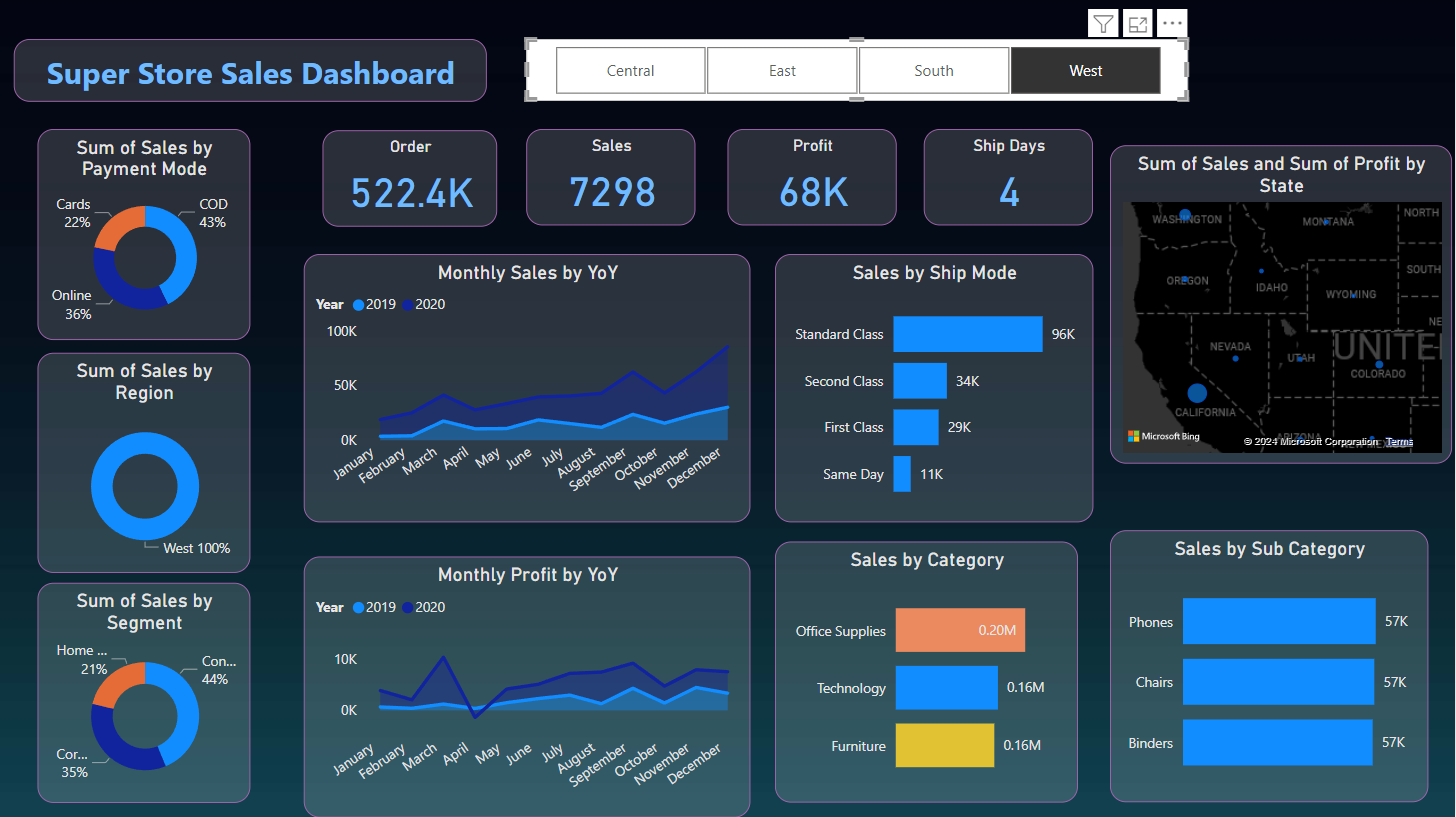

Layout of this report page (visuals, bound fields, positions):
{"tool":"powerbi","page":{"name":"Page 1","canvas":[1280,720],"ordinal":0},"visuals":[{"type":"clusteredBarChart","title":" Sales by Category","fields":{"Category":["SuperStore_Sales_Dataset.Category"],"Y":["Sum(SuperStore_Sales_Dataset.Sales)"]},"box":[681.9,477.2,266.6,229.7],"z":0},{"type":"clusteredBarChart","title":" Sales by Sub Category","fields":{"Category":["SuperStore_Sales_Dataset.Sub-Category"],"Y":["Sum(SuperStore_Sales_Dataset.Sales)"]},"box":[975.9,467.7,279.7,239.2],"z":1000},{"type":"clusteredBarChart","title":" Sales by Ship Mode","fields":{"Category":["SuperStore_Sales_Dataset.Ship Mode"],"Y":["Sum(SuperStore_Sales_Dataset.Sales)"]},"box":[681.9,223.7,279.7,235.6],"z":2000},{"type":"stackedAreaChart","title":" Monthly Sales by YoY ","fields":{"Y":["Sum(SuperStore_Sales_Dataset.Sales)"],"Category":["SuperStore_Sales_Dataset.Order Date.Variation.Date Hierarchy.Month","SuperStore_Sales_Dataset.Order Date.Variation.Date Hierarchy.Day"],"Series":["SuperStore_Sales_Dataset.Order Date.Variation.Date Hierarchy.Year"]},"box":[266.6,223.7,392.7,235.6],"z":3000},{"type":"stackedAreaChart","title":" Monthly Profit by YoY ","fields":{"Category":["SuperStore_Sales_Dataset.Order Date.Variation.Date Hierarchy.Month","SuperStore_Sales_Dataset.Order Date.Variation.Date Hierarchy.Day"],"Series":["SuperStore_Sales_Dataset.Order Date.Variation.Date Hierarchy.Year"],"Y":["Sum(SuperStore_Sales_Dataset.Profit)"]},"box":[266.6,490.3,392.7,229.7],"z":4000},{"type":"map","fields":{"Category":["SuperStore_Sales_Dataset.State"],"Size":["Sum(SuperStore_Sales_Dataset.Sales)"]},"box":[975.6,129,300.5,279.9],"z":5000},{"type":"donutChart","fields":{"Category":["SuperStore_Sales_Dataset.Segment"],"Y":["Sum(SuperStore_Sales_Dataset.Sales)"]},"box":[33.3,512.9,186.8,194],"z":6000},{"type":"donutChart","fields":{"Category":["SuperStore_Sales_Dataset.Payment Mode"],"Y":["Sum(SuperStore_Sales_Dataset.Sales)"]},"box":[33.3,114.2,186.8,185.7],"z":7000},{"type":"slicer","fields":{"Values":["SuperStore_Sales_Dataset.Region"]},"box":[462.9,35.7,582,54.7],"z":8000},{"type":"textbox","box":[12.3,35.7,415.8,54.9],"z":9000},{"type":"card","title":"Order","fields":{"Values":["Sum(SuperStore_Sales_Dataset.Sales)"]},"box":[283.2,115.4,153.5,84.5],"z":10000},{"type":"card","title":"Sales","fields":{"Values":["Sum(SuperStore_Sales_Dataset.Quantity)"]},"box":[462.9,114.2,148.8,84.5],"z":11000},{"type":"card","title":"Profit","fields":{"Values":["Sum(SuperStore_Sales_Dataset.Profit)"]},"box":[640.3,114.2,148.8,84.5],"z":12000},{"type":"card","title":"Ship Days","fields":{"Values":["Avg(SuperStore_Sales_Dataset.AvgDelivery)"]},"box":[812.8,114.2,148.8,84.5],"z":13000},{"type":"donutChart","fields":{"Category":["SuperStore_Sales_Dataset.Region"],"Y":["Sum(SuperStore_Sales_Dataset.Sales)"]},"box":[33.3,310.6,186.8,194],"z":14000}]}

Visuals, with their boxes in screenshot pixels (x1, y1, x2, y2), scaled from the page's 1280x720 canvas onto the 1456x817 screenshot:
" Sales by Category" clusteredBarChart: select_region(776, 541, 1079, 802)
" Sales by Sub Category" clusteredBarChart: select_region(1110, 531, 1428, 802)
" Sales by Ship Mode" clusteredBarChart: select_region(776, 254, 1094, 521)
" Monthly Sales by YoY " stackedAreaChart: select_region(303, 254, 750, 521)
" Monthly Profit by YoY " stackedAreaChart: select_region(303, 556, 750, 816)
map - SuperStore_Sales_Dataset.State x Sum(SuperStore_Sales_Dataset.Sales): select_region(1110, 146, 1452, 464)
donutChart - SuperStore_Sales_Dataset.Segment x Sum(SuperStore_Sales_Dataset.Sales): select_region(38, 582, 250, 802)
donutChart - SuperStore_Sales_Dataset.Payment Mode x Sum(SuperStore_Sales_Dataset.Sales): select_region(38, 130, 250, 340)
slicer - SuperStore_Sales_Dataset.Region: select_region(527, 41, 1189, 103)
textbox: select_region(14, 41, 487, 103)
"Order" card: select_region(322, 131, 497, 227)
"Sales" card: select_region(527, 130, 696, 225)
"Profit" card: select_region(728, 130, 898, 225)
"Ship Days" card: select_region(925, 130, 1094, 225)
donutChart - SuperStore_Sales_Dataset.Region x Sum(SuperStore_Sales_Dataset.Sales): select_region(38, 352, 250, 573)
